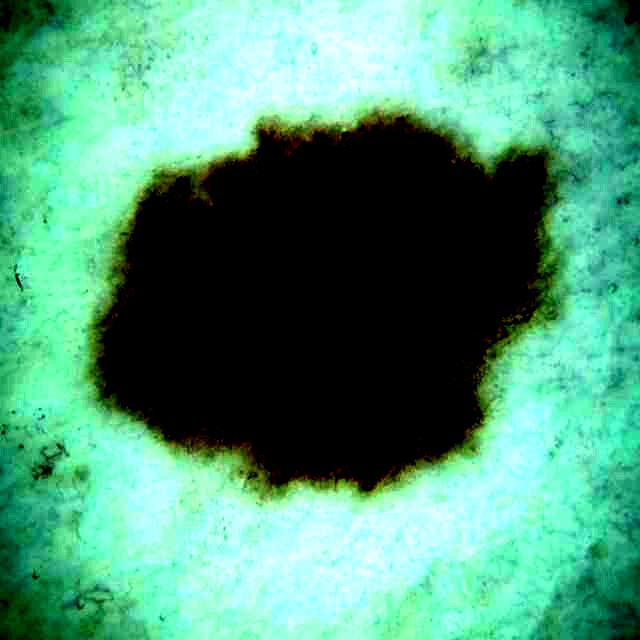NV: (105, 117, 548, 487)
